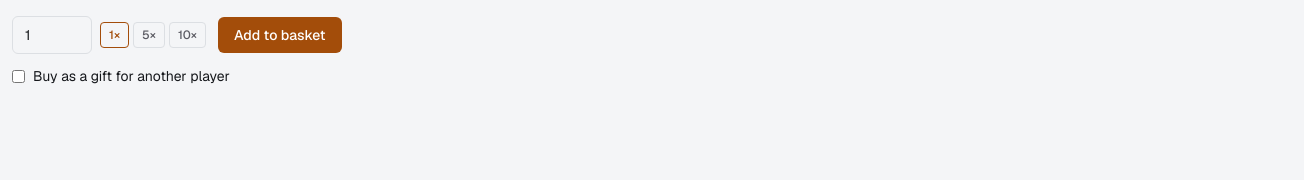
AddToBasketButton — gifting › shows the specific gift-target error message returned by the action
Click the checkbox labelled "Buy as a gift for another player".
click(18, 76)  # box [12, 70, 25, 82]
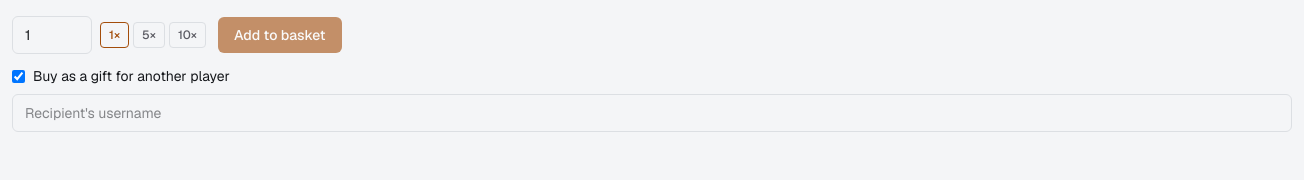
Type "nobody" into the field labelled "Recipient's username".
click(652, 113); type("nobody")  # box [12, 94, 1292, 132]
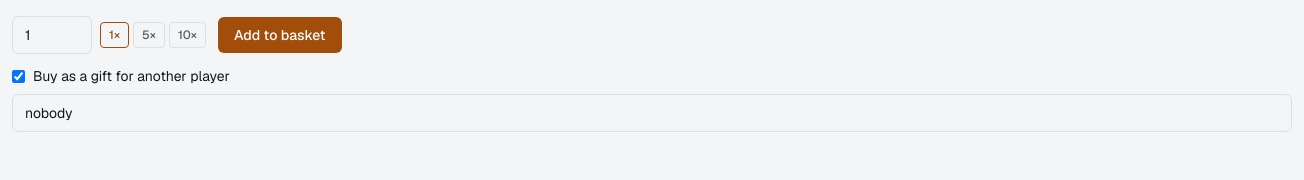
Click the button "Add to basket".
click(280, 35)  # box [218, 17, 342, 53]
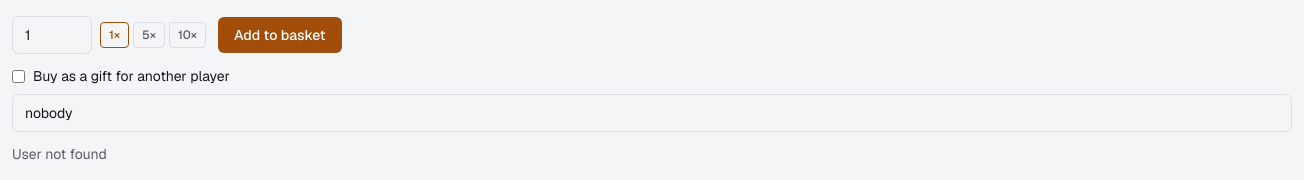
Result: the text "User not found" is shown at [12, 145, 107, 163]
